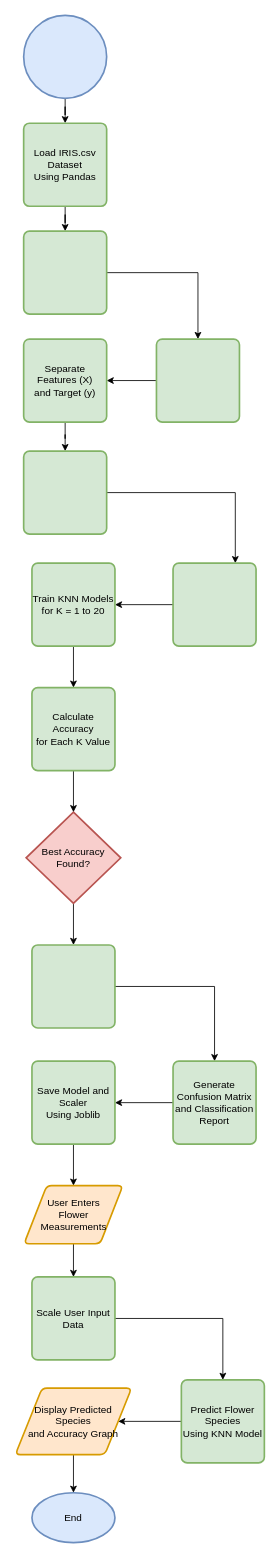
The diagram is 279 pixels wide and 1557 high, and some of its shapes have lost their labels. The centre of each missing label's shape, as x and y in pixels:
"Check Data Types and Species Counts" belongs at (64,272).
"Encode Species Labels Setosa = 0 Versicolor = 1 Virginica = 2" belongs at (197,380).
"Scale Features Using StandardScaler" belongs at (214,604).
"Split Dataset into Training and Testing Data (80/20)" belongs at (64,492).
"Start" belongs at (64,56).
"Train Final KNN Model Using Best K" belongs at (73,986).
